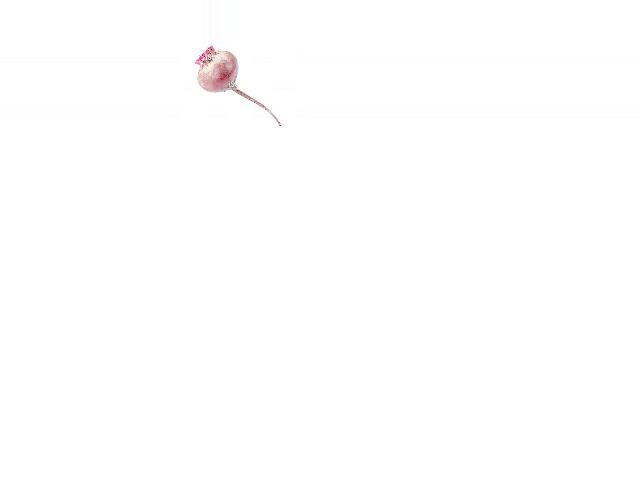beet: (195, 45, 281, 126)
